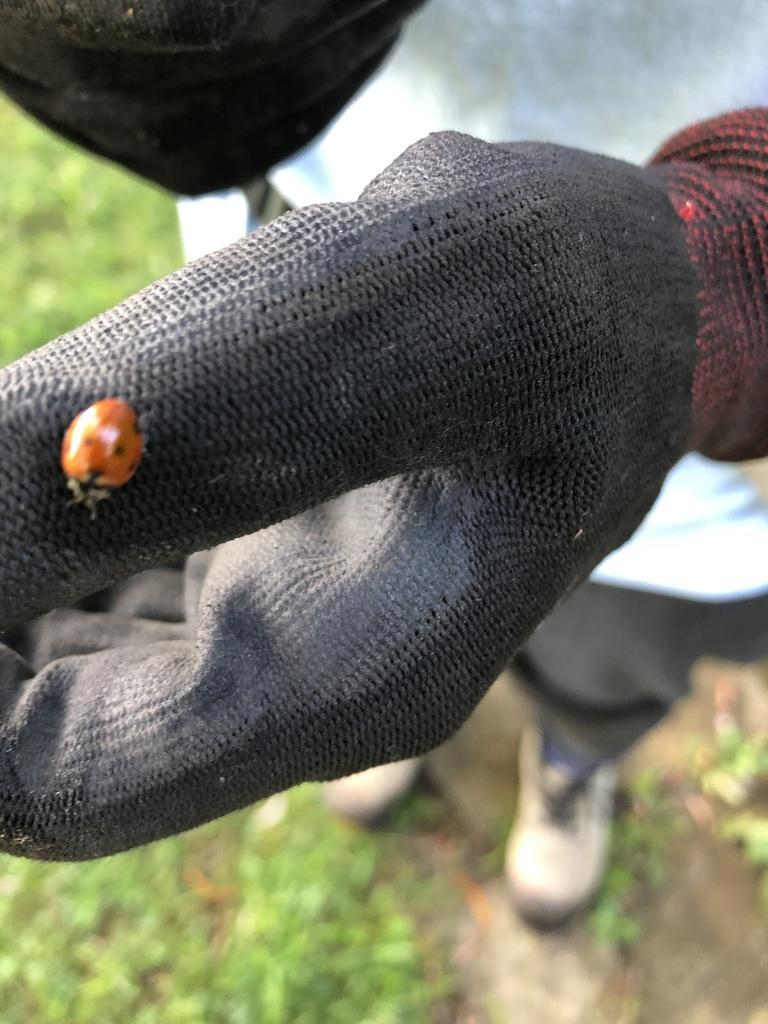ladybug: (59, 396, 151, 524)
